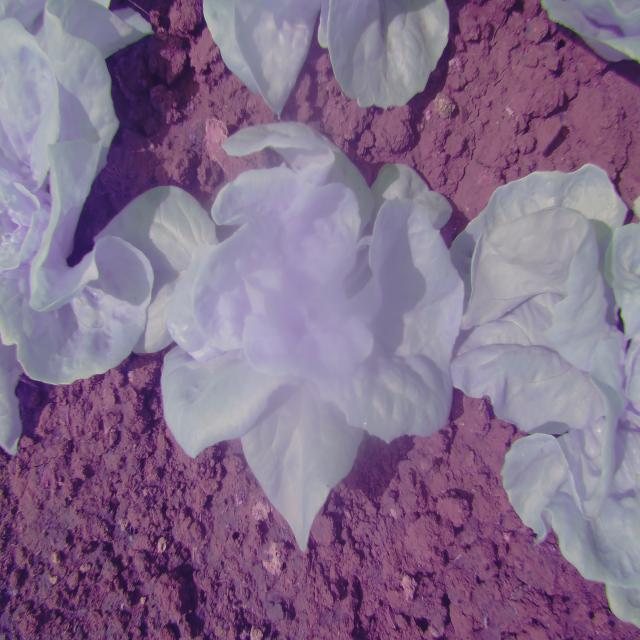vege: (157, 124, 465, 539)
